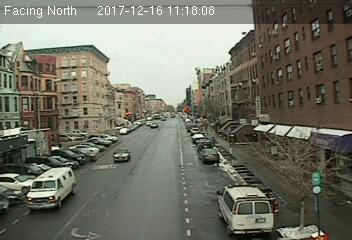car: (200, 148, 221, 162), (113, 148, 131, 163)
police: (216, 184, 277, 237)
truck: (27, 166, 77, 209)
